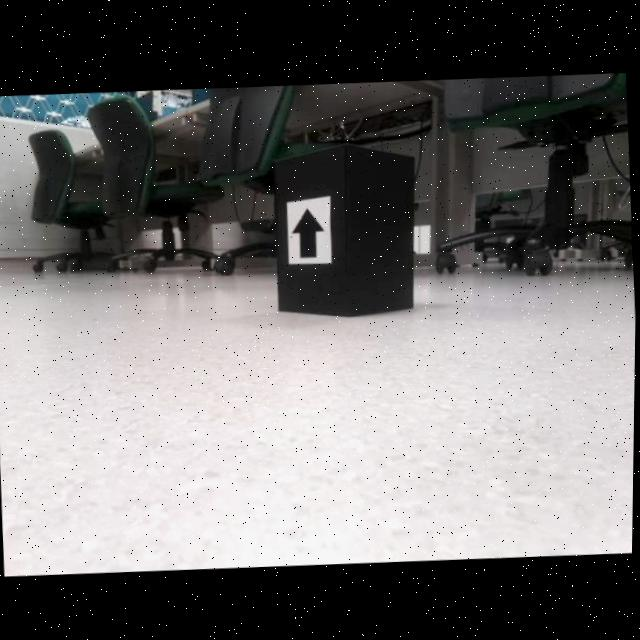UP: (292, 206, 328, 258)
